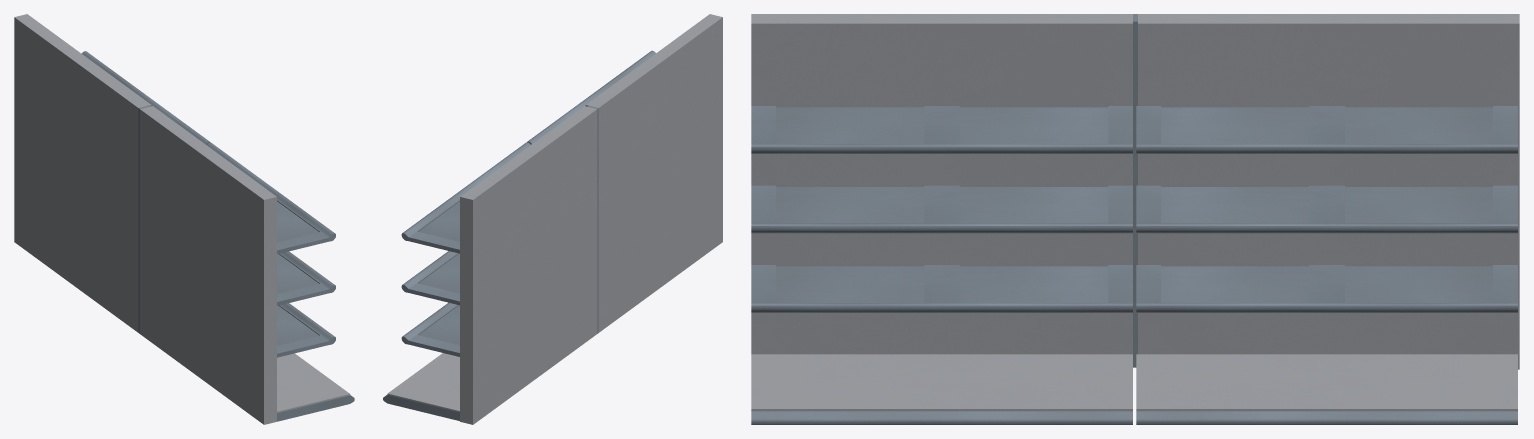
File: Regal.fbx
3 views of the same model, side by side, from view 1: azimuth 30°, elevation 25°; view 2: azimuth 150°, elevation 25°; view 3: azimuth 270°, elevation 25° (orthographic). The views are drawn at different scales.
Visible parts, largest first — view 1: Regal; view 2: Regal; view 3: Regal.
Part boxes in pixels (x1,y1,x2,y2): Regal: [14, 14, 354, 424]; Regal: [383, 14, 722, 424]; Regal: [751, 14, 1519, 424].
Bounding box in the file's own units: 49.88 × 118 × 238.
Materials: 2 (2 with a texture image).
